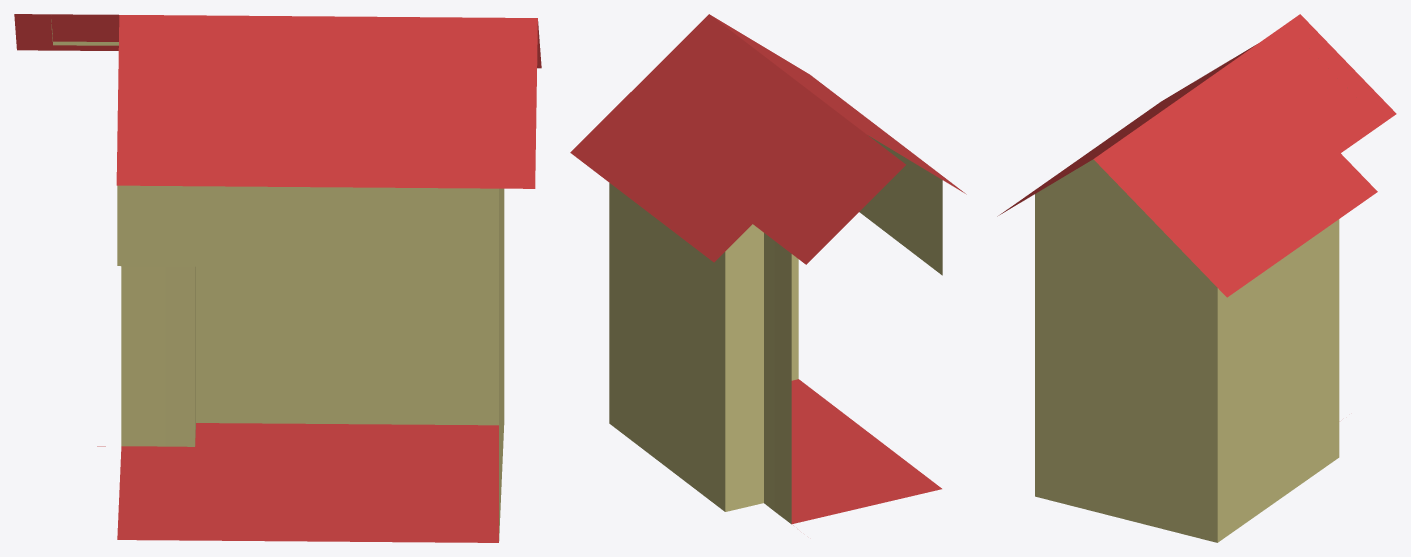
The picture shows the model from 3 angles, left to right: view 1: azimuth 30°, elevation 25°; view 2: azimuth 150°, elevation 25°; view 3: azimuth 270°, elevation 25°; orthographic projection. The views are drawn at different scales.
Size of the model in its own units: 11.27 by 10.65 by 10.74.
